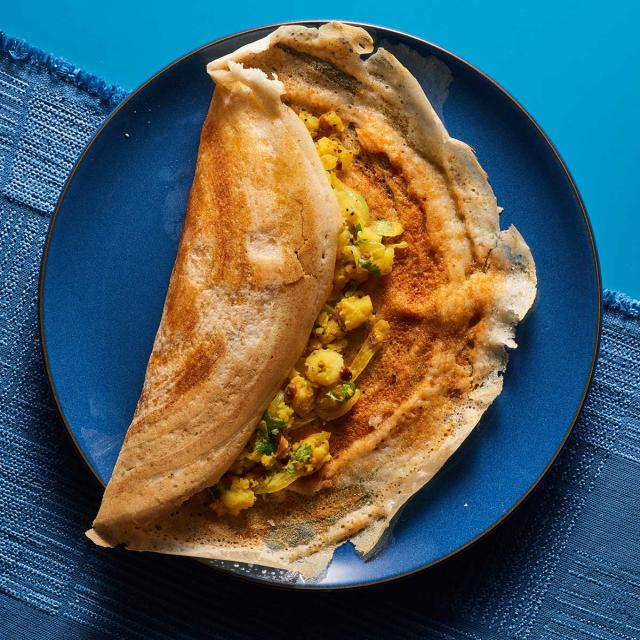Wet Waste: (104, 21, 509, 574)
